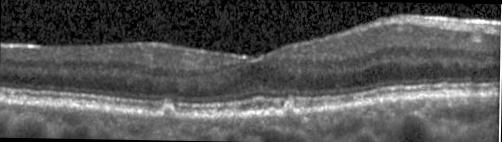retinal_drusen: (283, 104, 300, 118), (163, 105, 176, 117), (268, 108, 278, 116)
